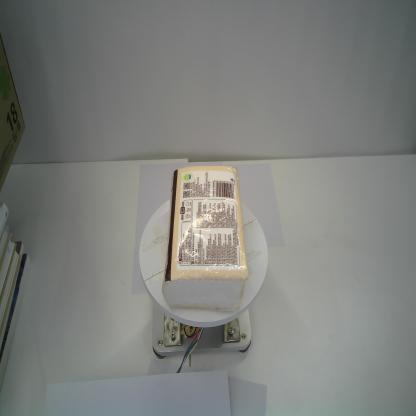Tissue: (160, 164, 250, 314)
